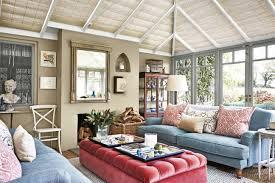chair: (31, 103, 61, 151)
door: (220, 50, 250, 106), (248, 45, 275, 106), (196, 51, 221, 104), (174, 56, 194, 103)
light: (163, 75, 192, 105)
sofa: (132, 103, 275, 175), (0, 118, 96, 183)
table: (78, 134, 207, 183), (257, 129, 275, 182), (112, 120, 151, 137), (0, 108, 30, 126)
